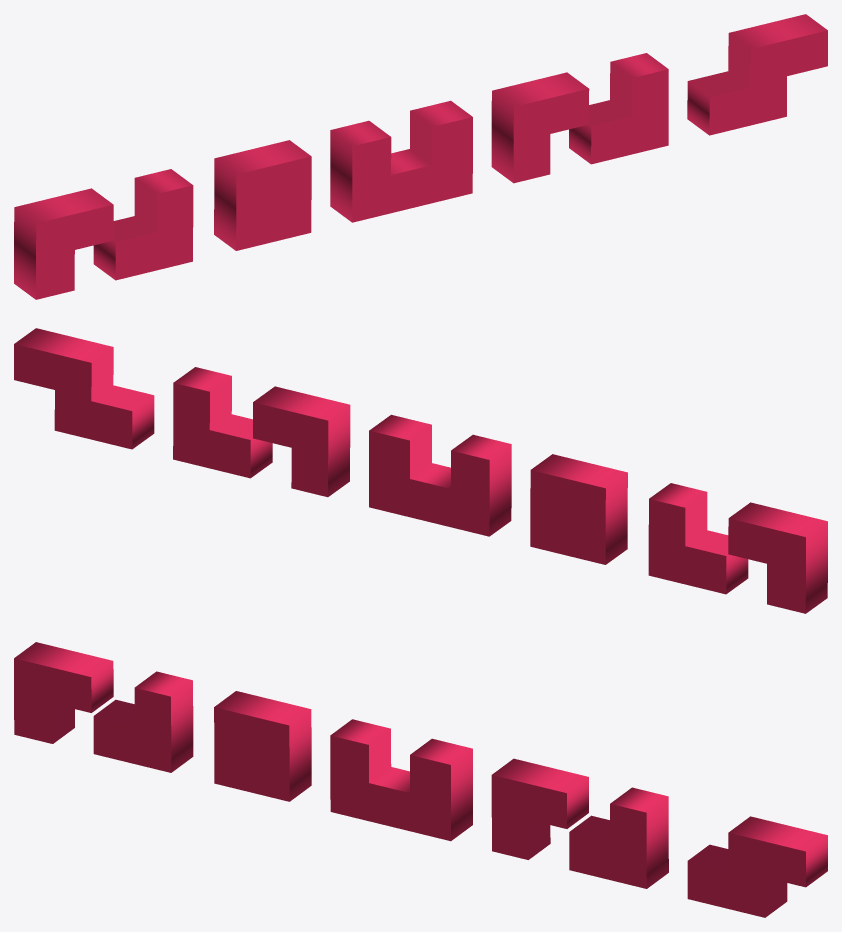
Rendered from nouns-horizontal.glb.
3 views of the same model, one above another, from view 1: azimuth 30°, elevation 25°; view 2: azimuth 150°, elevation 25°; view 3: azimuth 330°, elevation 25° (orthographic).
Visible parts, largest first — view 1: Curve.012; view 2: Curve.012; view 3: Curve.012.
Boxes of the visible parts, bbox=[...] form: Curve.012: bbox=[14, 14, 827, 299]; Curve.012: bbox=[14, 328, 827, 613]; Curve.012: bbox=[14, 642, 827, 917].
Size of the model in its own units: 10.47 by 0.9699 by 0.509.
